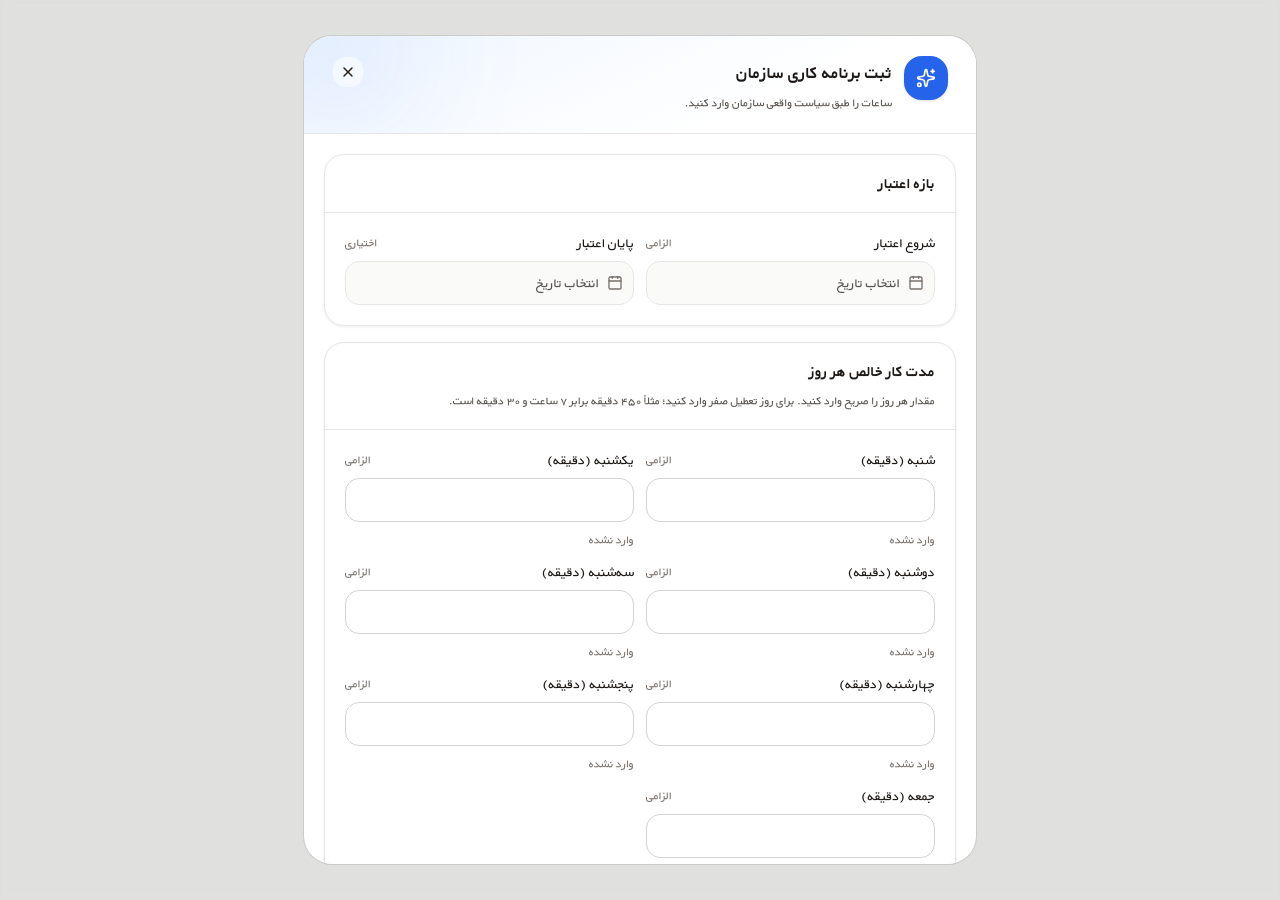
Test case: work schedule setup › does not assume eight-hour days or an effective date
Type "450" into the field labelled "شنبه (دقیقه)".
click(790, 500); type("450")  # box [646, 478, 935, 522]
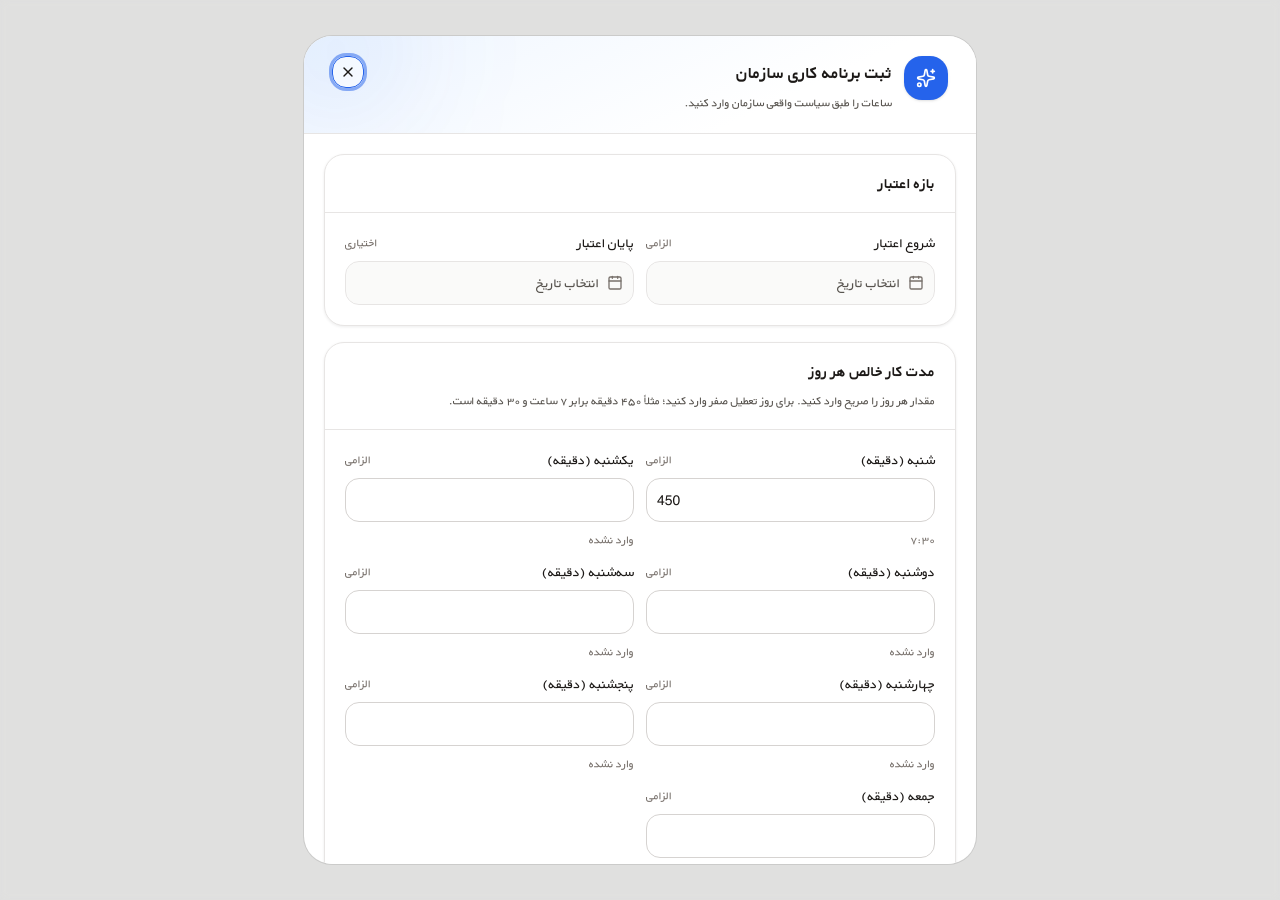
Expected: the text "۷:۳۰" is shown, [910, 531, 935, 548]
